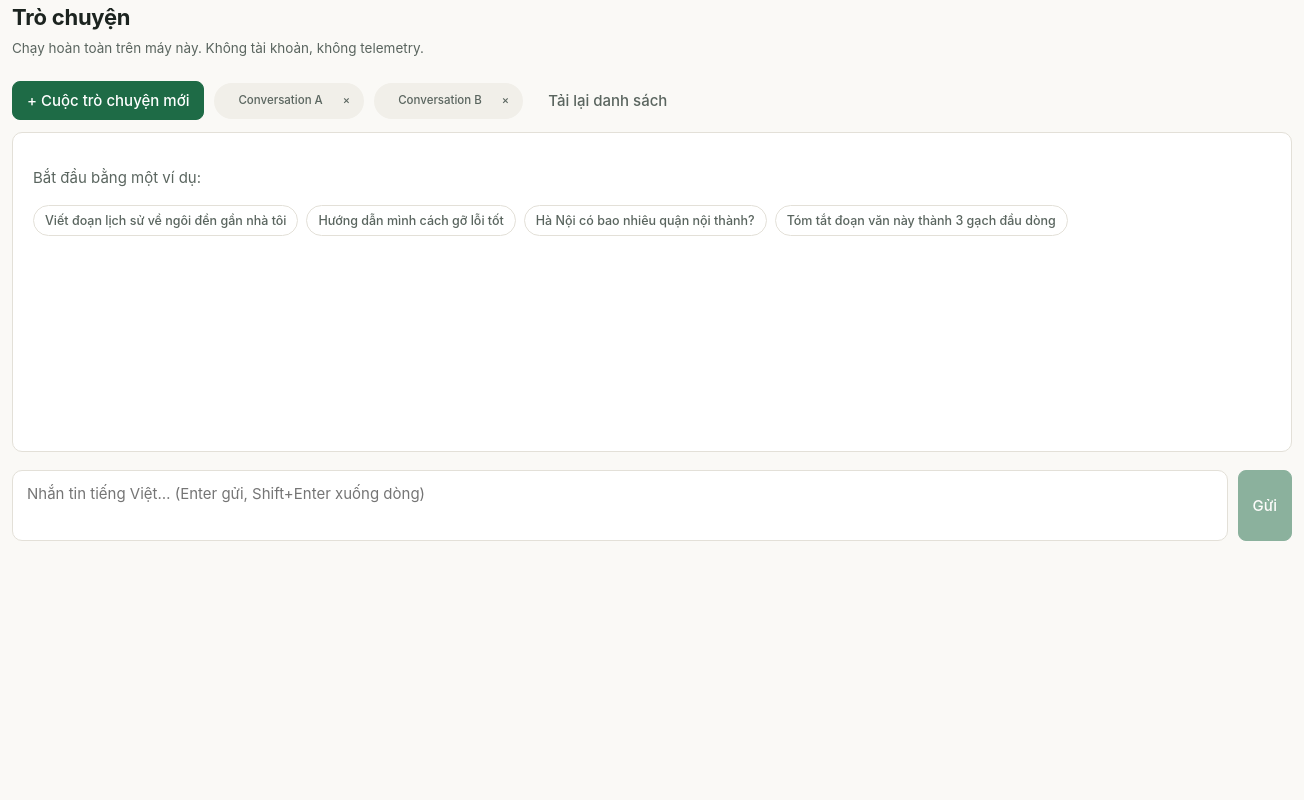
Test: keeps the submitted prompt after HTTP failure or empty termination
In the text box named "Tin nhắn": (620, 506) [12, 470, 1228, 541], type "Recover this prompt"
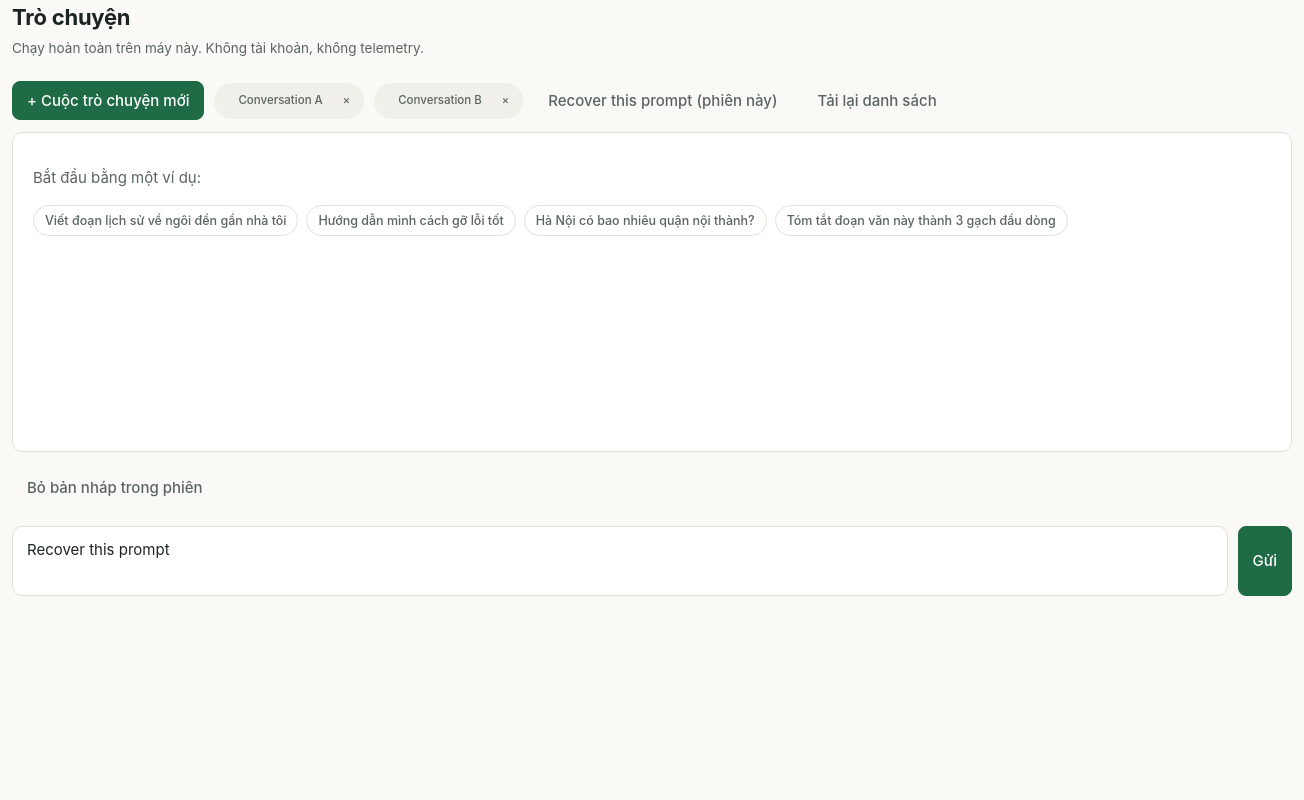
Click the button "Gửi": (1265, 561) [1238, 526, 1292, 596]
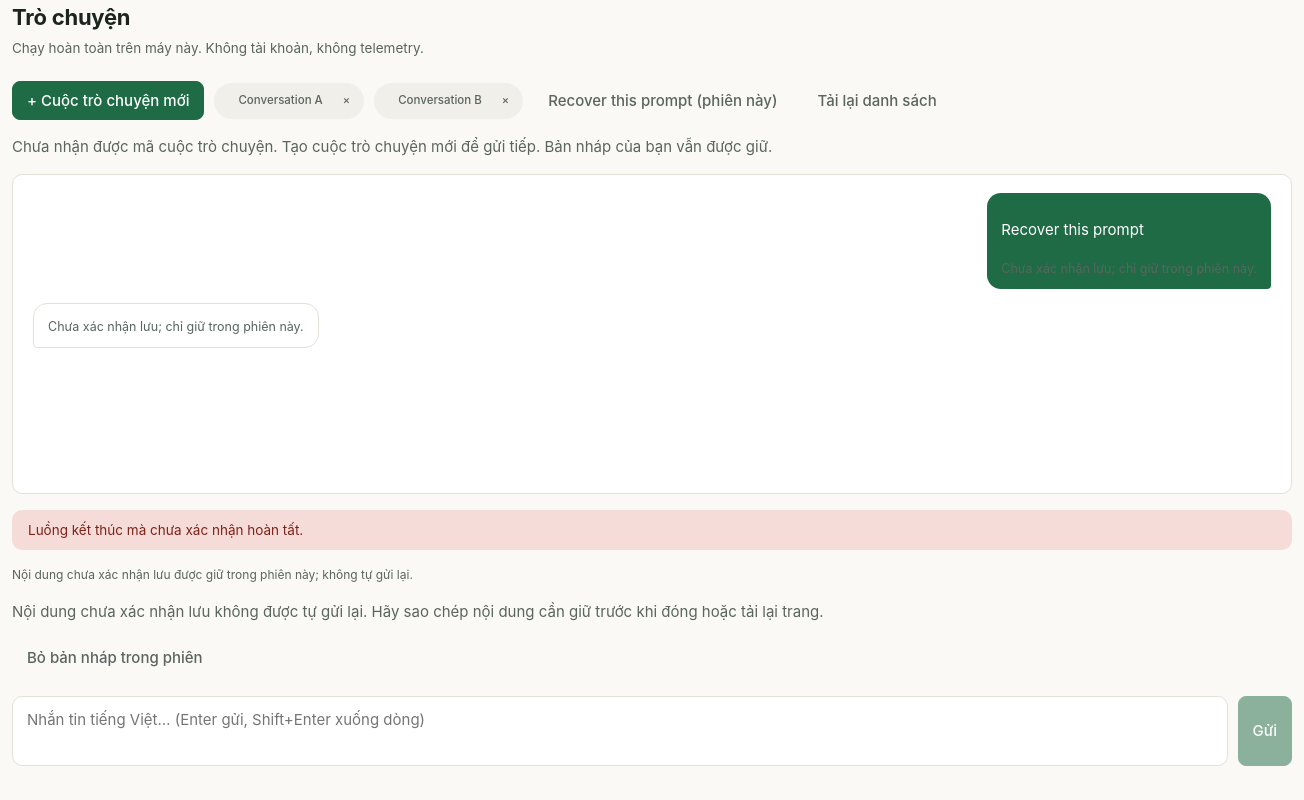
expect the message "Luồng kết thúc mà chưa xác nhận hoàn tất." is shown: met, box [12, 510, 1292, 550]
